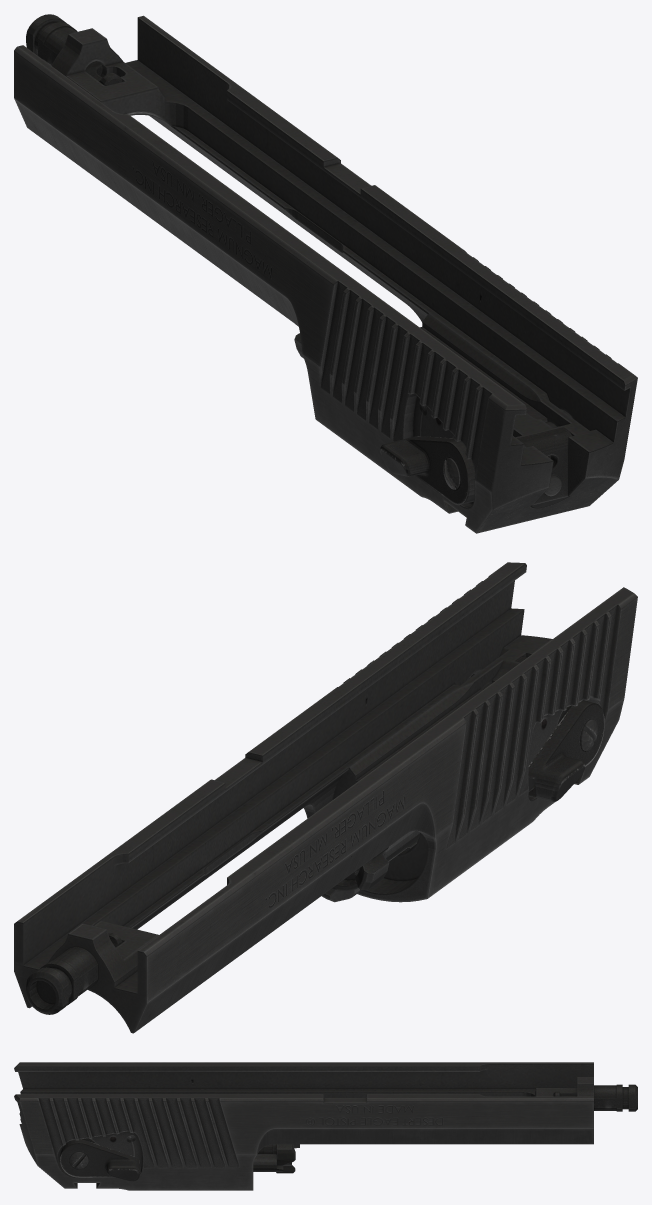
3 views of the same model, one above another, from view 1: azimuth 30°, elevation 25°; view 2: azimuth 150°, elevation 25°; view 3: azimuth 270°, elevation 25° (orthographic). The views are drawn at different scales.
Parts seen in each view (by area): view 1: TW_669fa4d97a09bc295603b496_PZ_Import; view 2: TW_669fa4d97a09bc295603b496_PZ_Import; view 3: TW_669fa4d97a09bc295603b496_PZ_Import.
Boxes of the visible parts, x1,y1,x2,y2 form: TW_669fa4d97a09bc295603b496_PZ_Import: [14, 14, 637, 533]; TW_669fa4d97a09bc295603b496_PZ_Import: [14, 562, 637, 1033]; TW_669fa4d97a09bc295603b496_PZ_Import: [14, 1062, 637, 1190].
Bounding box in the file's own units: 0.0262 × 0.1327 × 0.024.
1 material, 1 textured.
